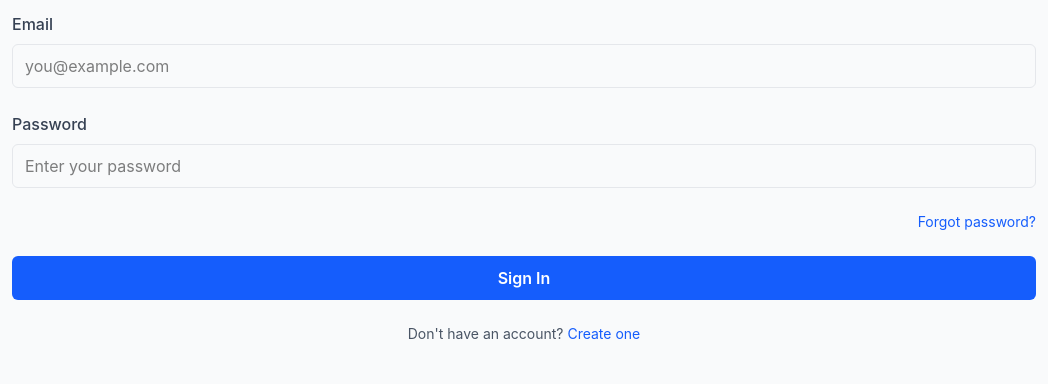
Test case: LoginForm › shows inline error for invalid email format
Type "invalid-email" into the field labelled "Email" at (524,66), box top-left (12, 44), bottom-right (1036, 88)
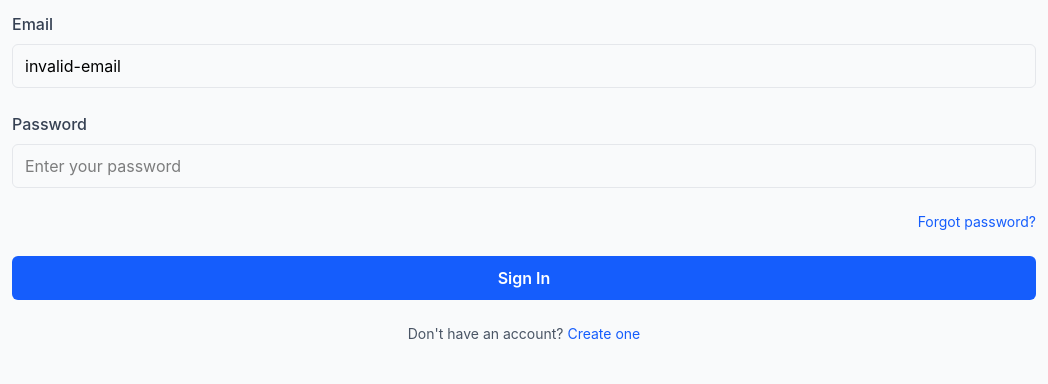
Type "password123" into the password field labelled "Password" at (524,166), box top-left (12, 144), bottom-right (1036, 188)
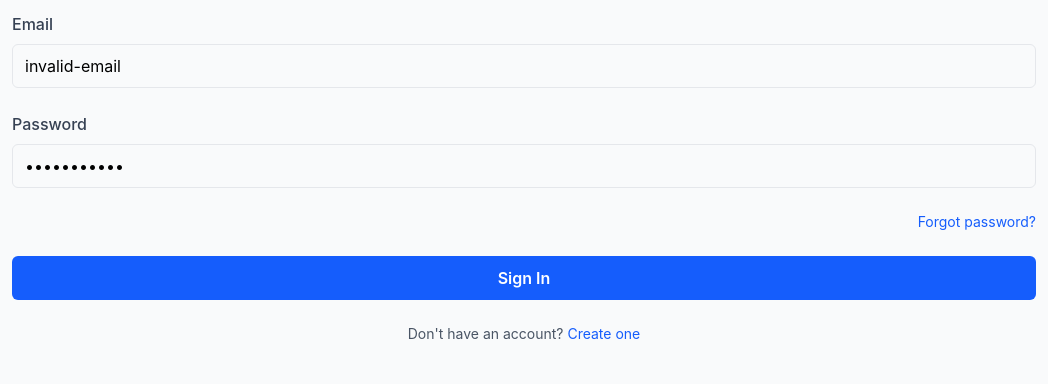
Click the button "Sign In" at (524,278), box top-left (12, 256), bottom-right (1036, 300)
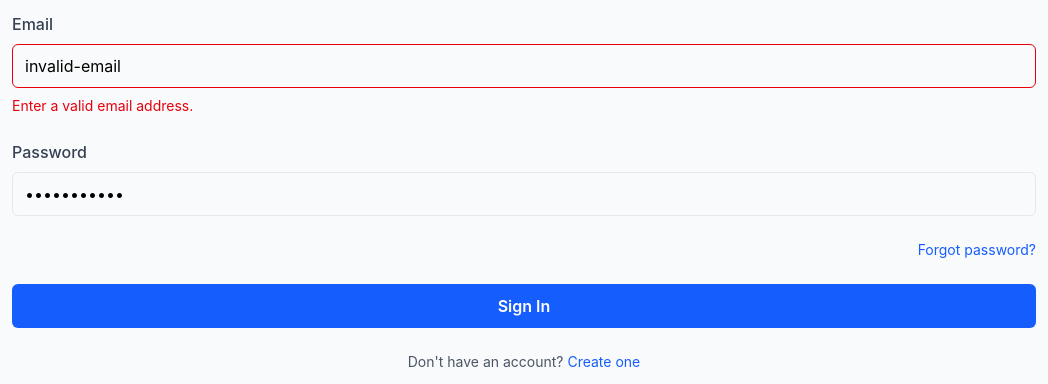
Check: the text "Enter a valid email address." is shown, box top-left (12, 97), bottom-right (193, 114)
